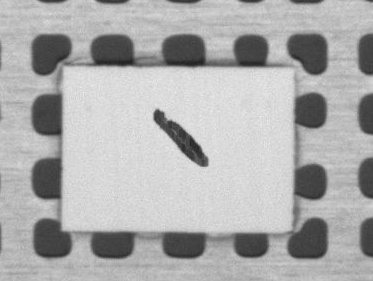DIE_INK: (150, 107, 215, 171)
